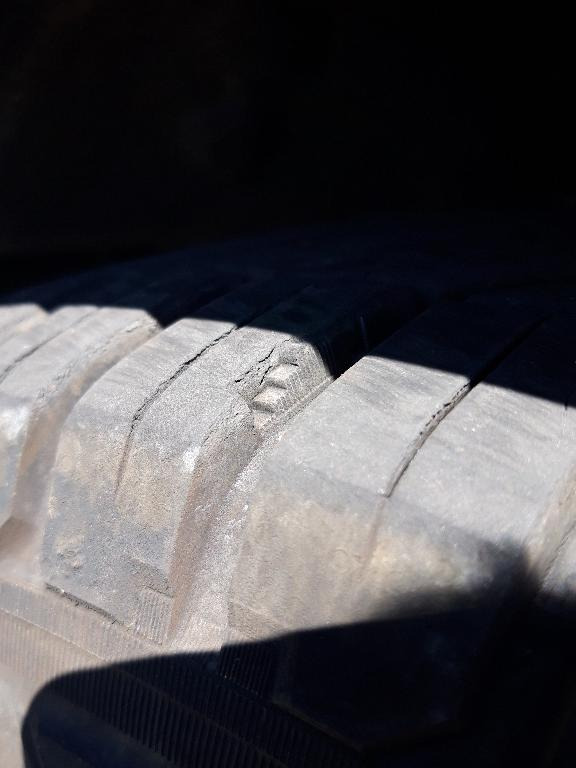temoin:80: (222, 328, 332, 442)
